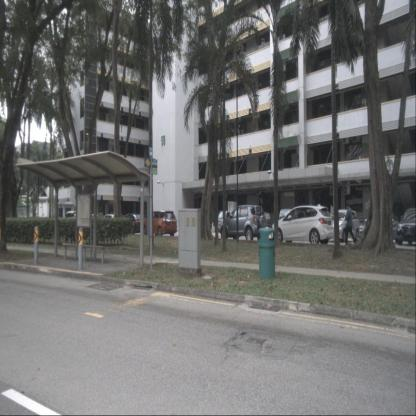human-pedestrian-adult: (343, 202, 357, 248), (329, 204, 334, 225)
vehicle-car: (272, 206, 334, 246), (220, 205, 266, 242), (327, 209, 360, 242), (142, 210, 177, 237), (396, 208, 416, 246), (121, 213, 145, 235)
